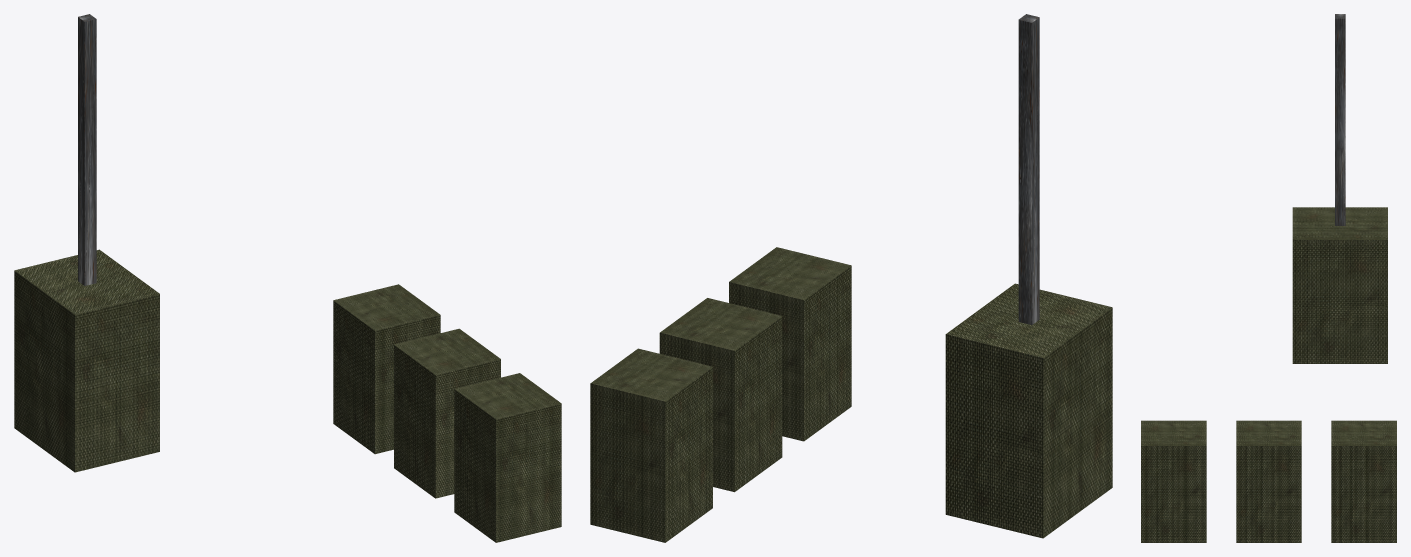
The model's file is ranger-gear.obj.
3 views of the same model, side by side, from view 1: azimuth 30°, elevation 25°; view 2: azimuth 150°, elevation 25°; view 3: azimuth 270°, elevation 25° (orthographic). The views are drawn at different scales.
Parts seen in each view (by area): view 1: ranger-gear; view 2: ranger-gear; view 3: ranger-gear.
Boxes of the visible parts, <box> form: ranger-gear: <box>14,14,561,542</box>; ranger-gear: <box>590,14,1112,542</box>; ranger-gear: <box>1141,14,1396,542</box>.
Size of the model in its own units: 0.595 by 0.73 by 0.43.
1 material, 1 textured.
